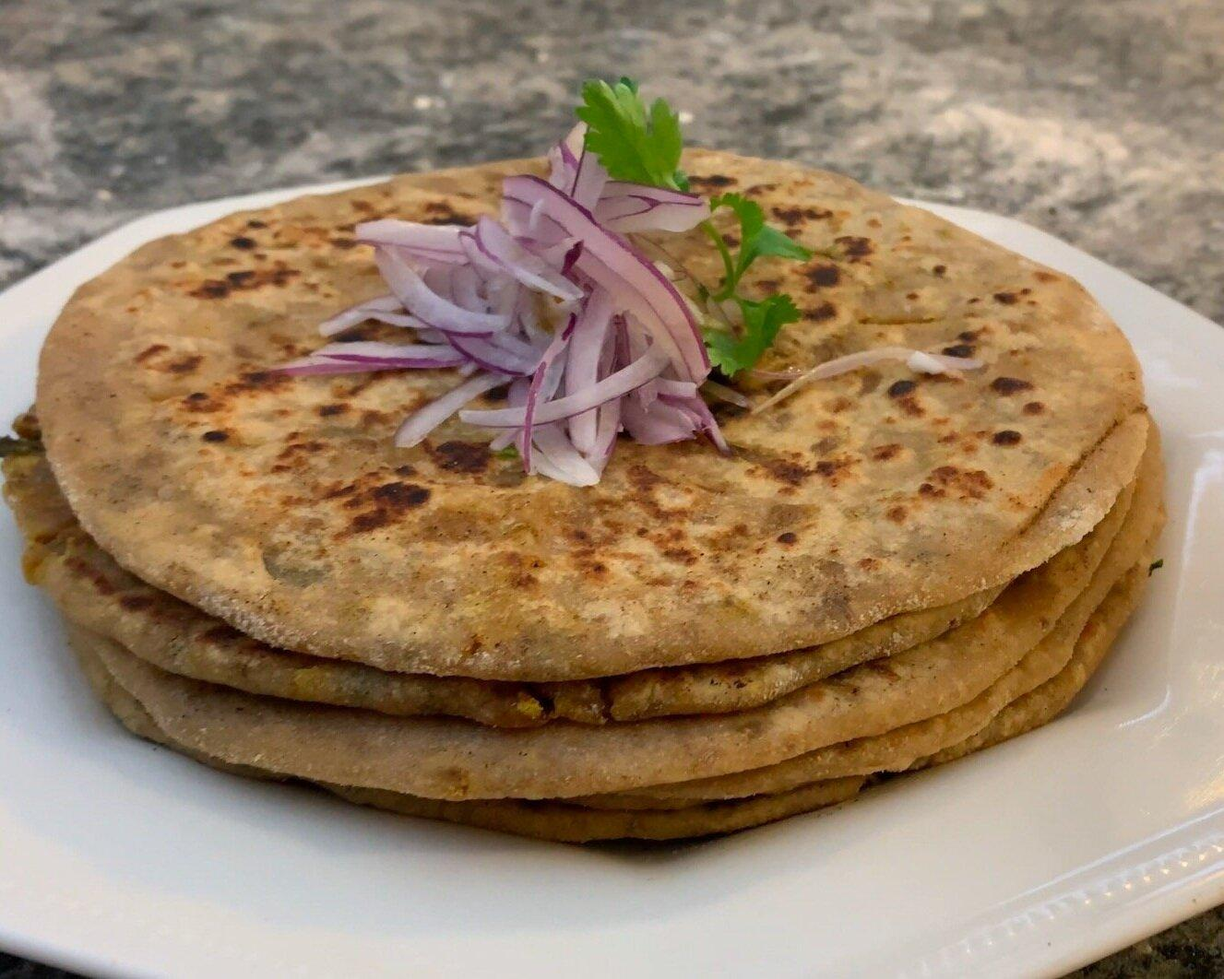paratha: (70, 210, 1127, 783)
salad: (342, 155, 843, 504)
